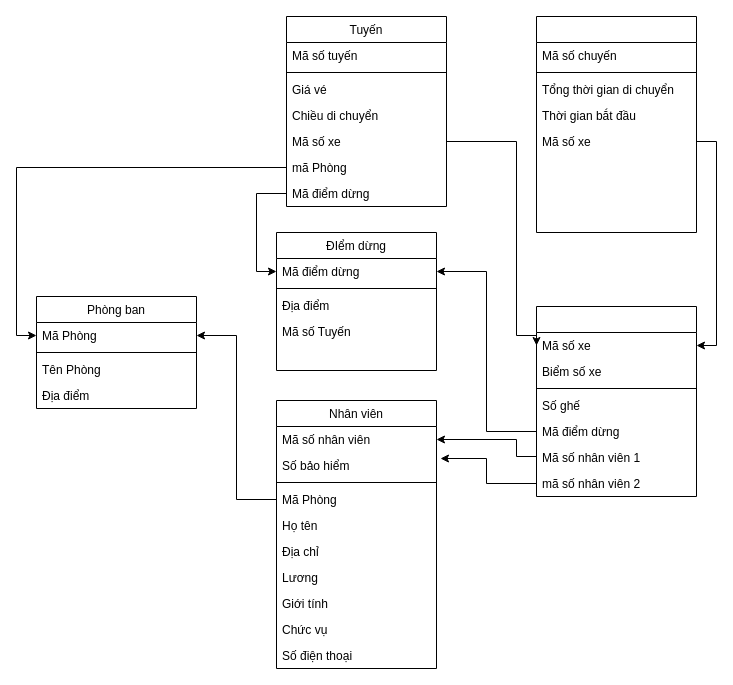
Some shapes in this 733 by 685 pixel diagram are drawn without their labels. Each missing label, with the box of its shape:
Chuyến xe: (536, 16, 696, 232)
XE: (536, 306, 696, 496)
